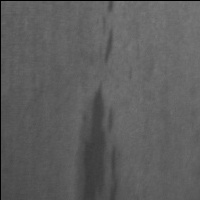inclusion: (77, 80, 119, 200), (96, 2, 120, 67)
